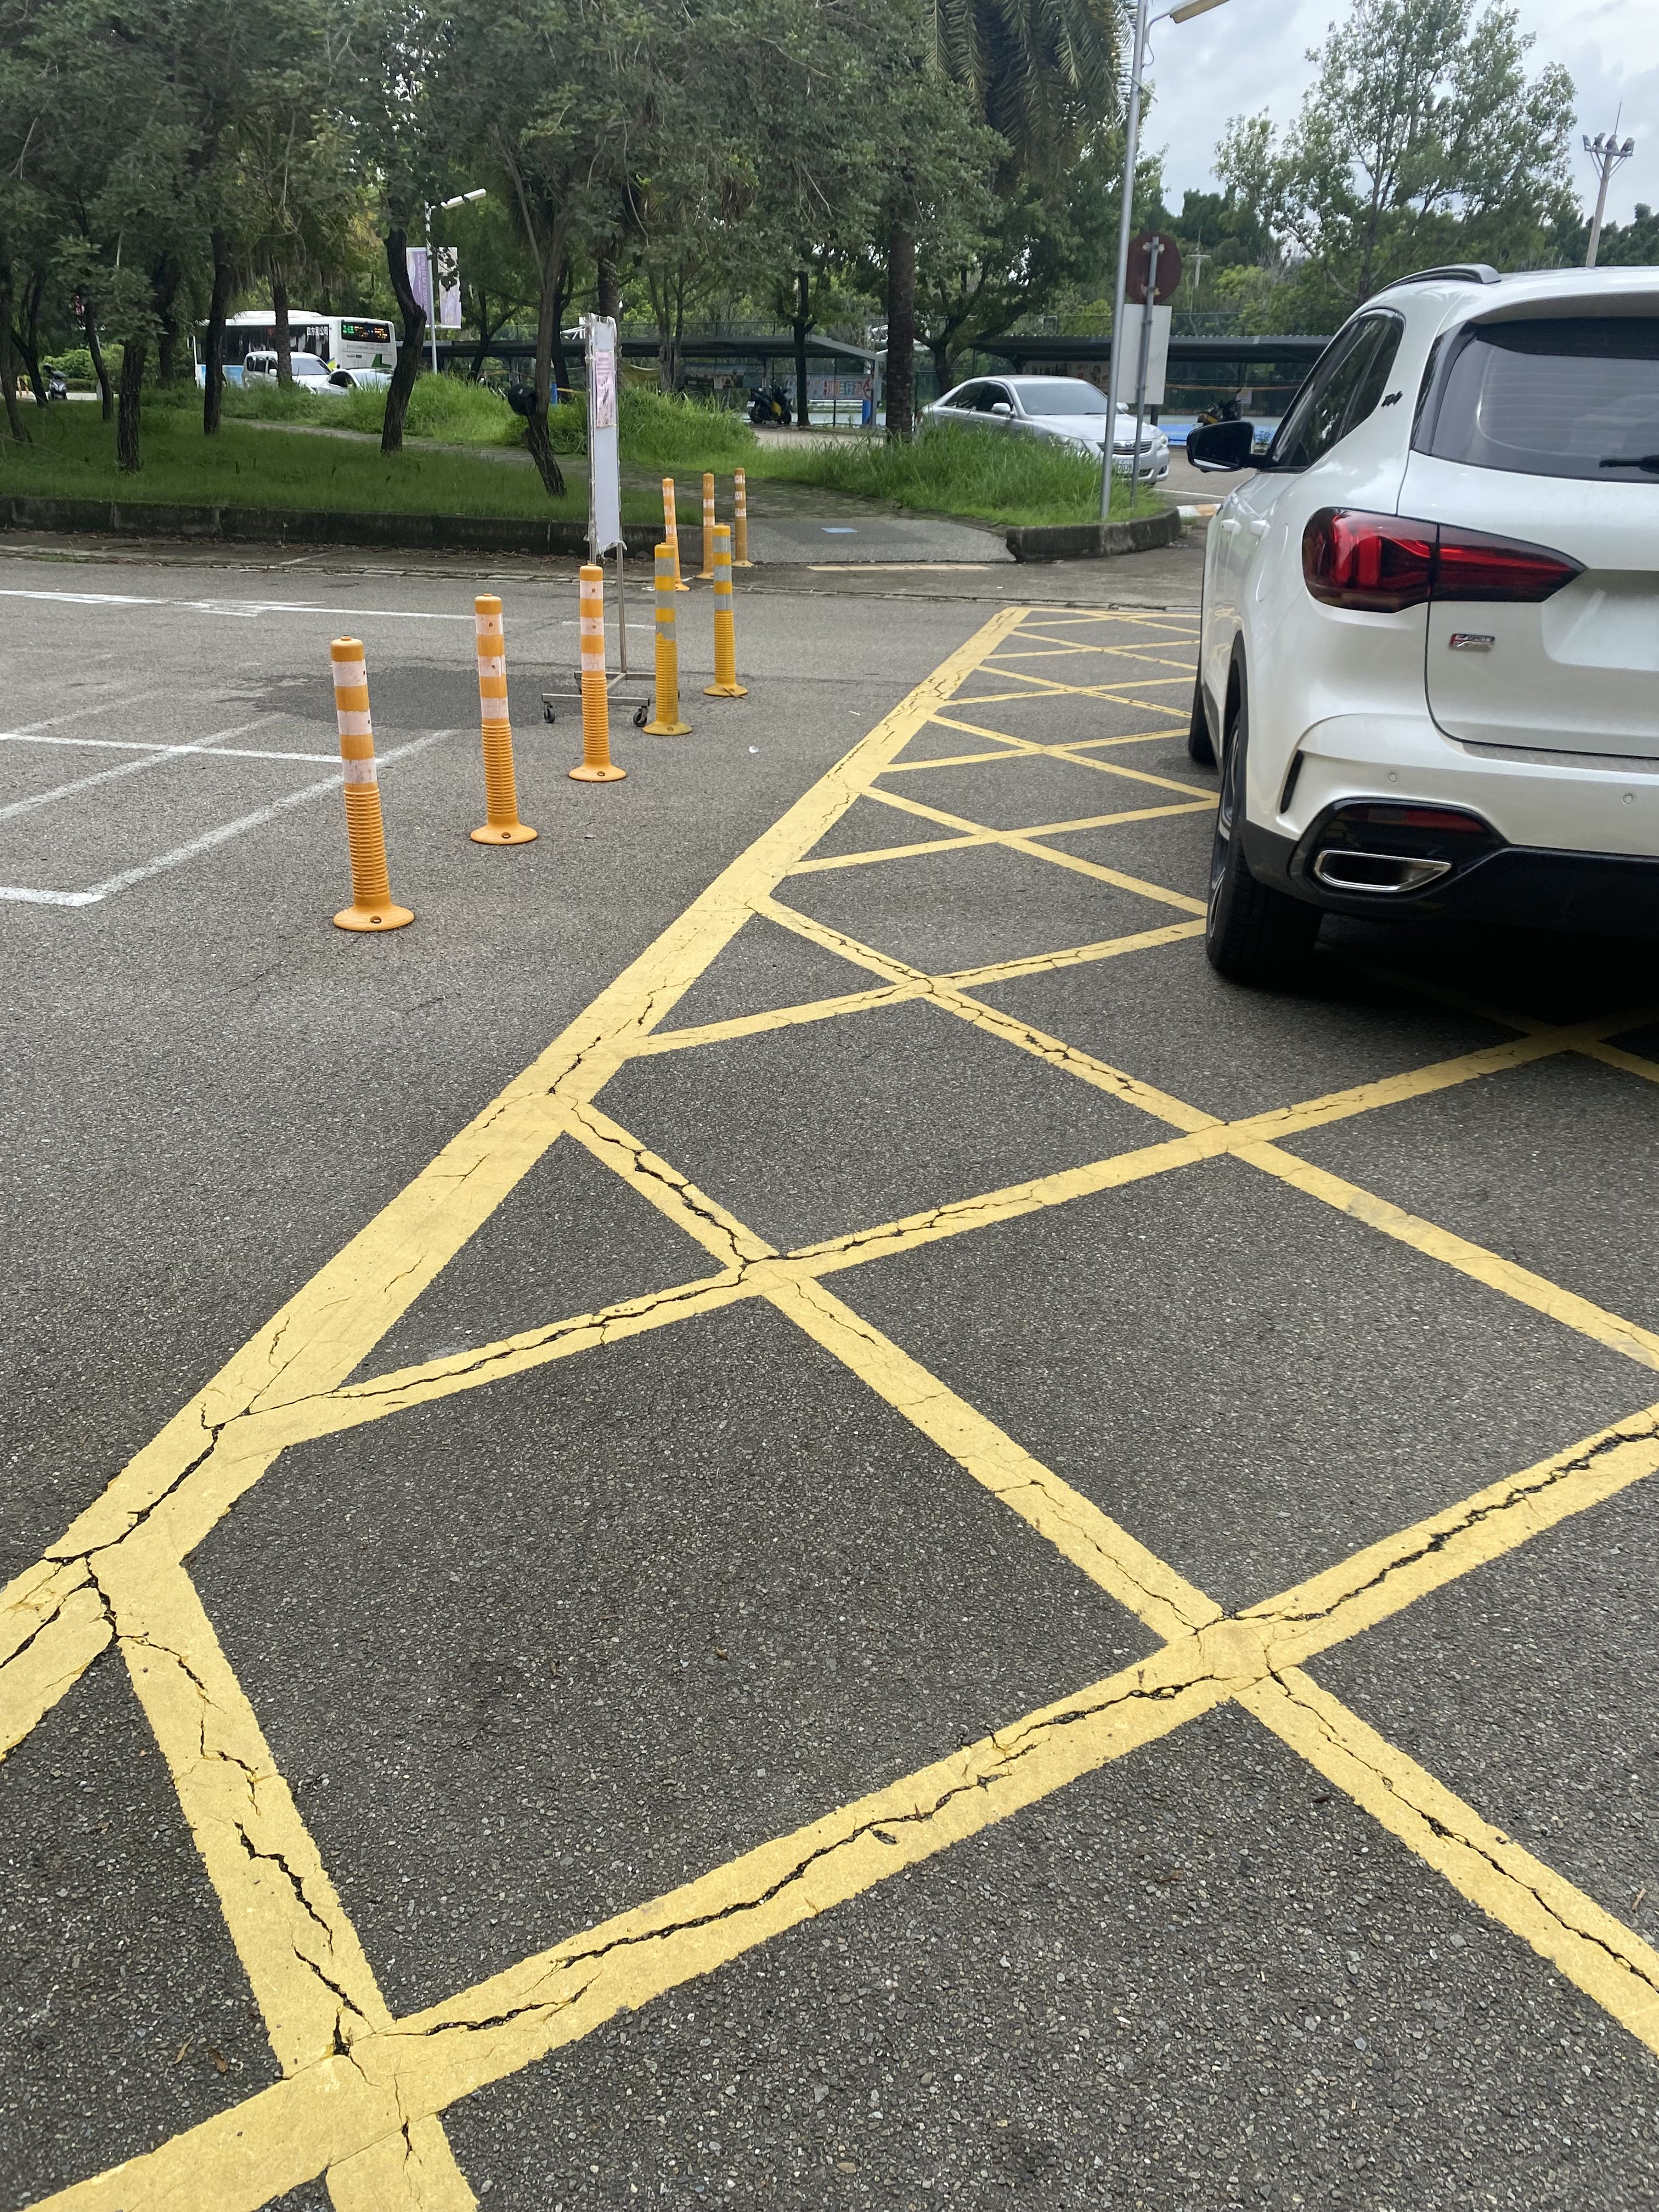sidewalk: (697, 437, 1028, 596)
